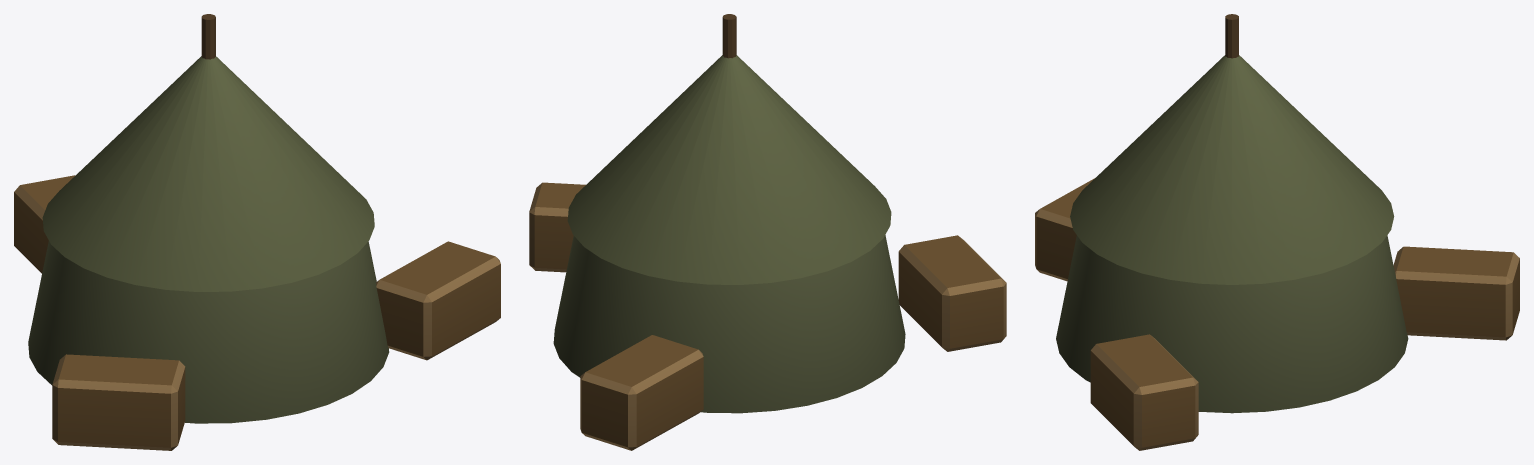
The model's file is haystack-v1.lod2.glb.
3 renders of one model, left to right at view 1: azimuth 30°, elevation 25°; view 2: azimuth 150°, elevation 25°; view 3: azimuth 270°, elevation 25°, orthographic. The views are drawn at different scales.
Parts seen in each view (by area): view 1: haystack-v1.lod2; view 2: haystack-v1.lod2; view 3: haystack-v1.lod2.
Part boxes in pixels (x1,y1,x2,y2): haystack-v1.lod2: (14,14,500,450); haystack-v1.lod2: (529,14,1006,450); haystack-v1.lod2: (1035,14,1519,450).
Size of the model in its own units: 5.91 by 4.03 by 5.5.
